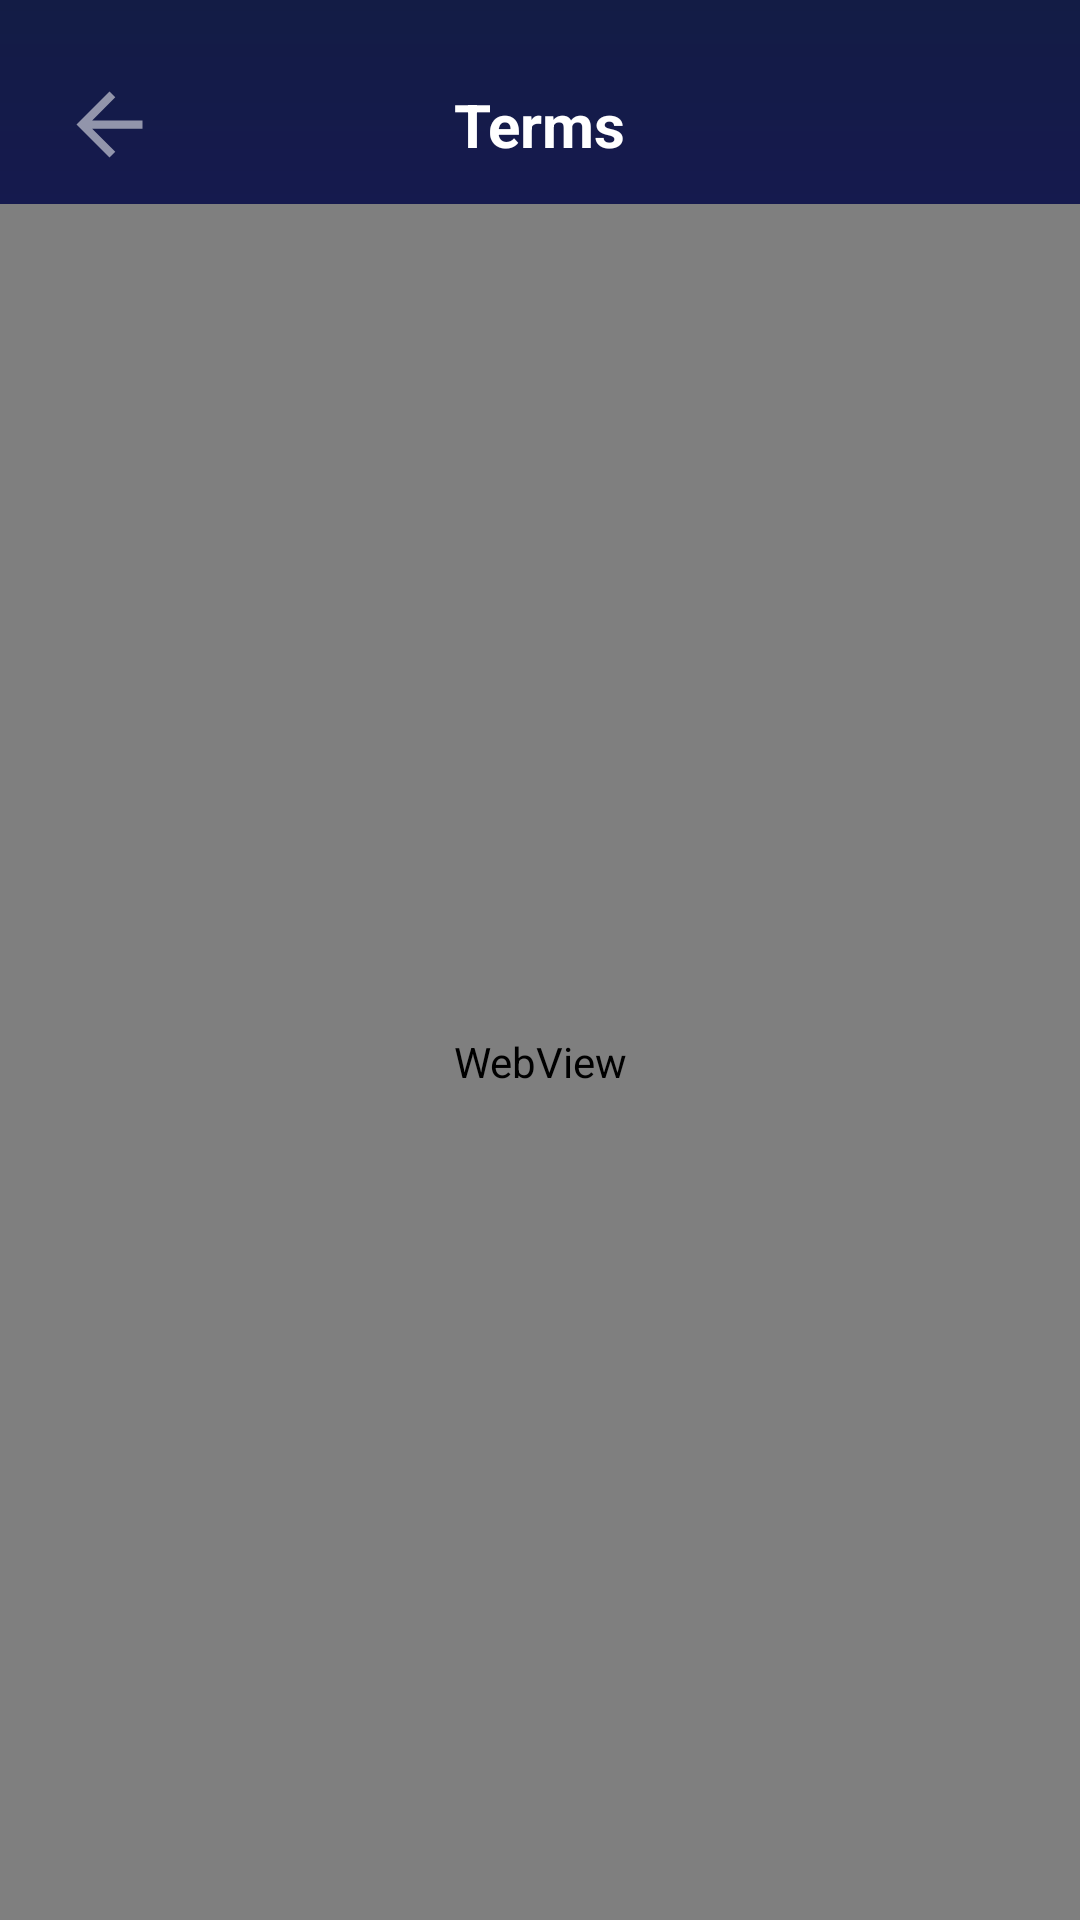

Icons on this 1080px x 1920px Android screen, each with its box as box=[x1, y1, x2, y2]:
back: box=[76, 91, 143, 158]
